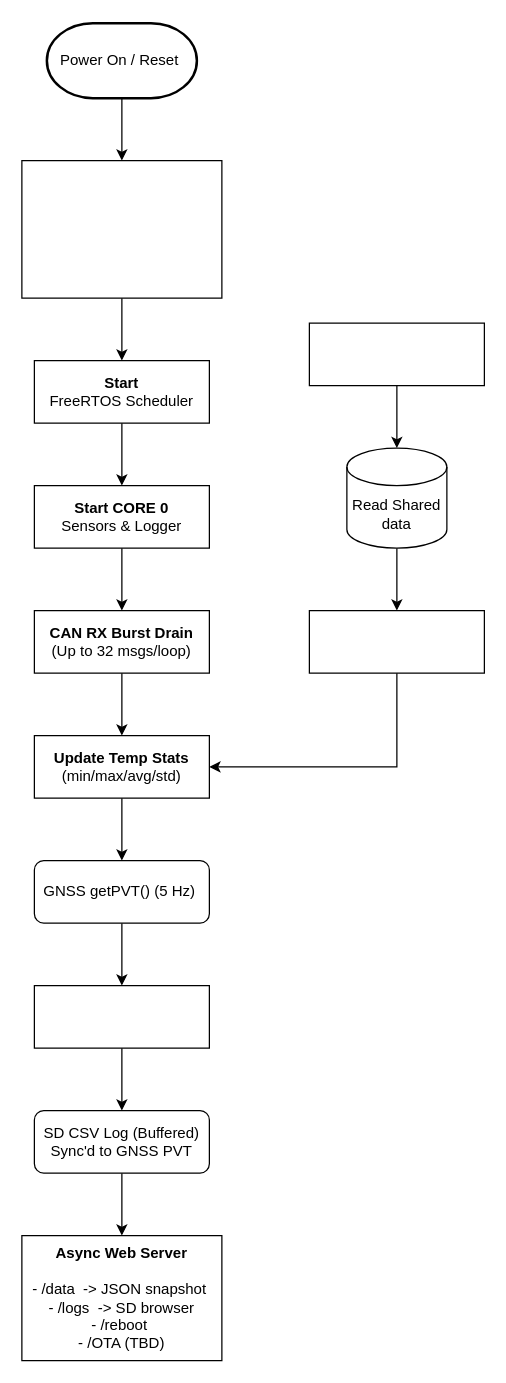
Image size: 506x1383. Some labels were removed from this diagram. The centre of each missing label's shape, as x and y in pixels:
Hardware Init - TFT - SD Card - WiFi - CAN (TWAI) - GNSS (UBX, 5Hz): point 121,228
Start CORE 1 Display Update: point 396,354
Update GNSS Data (lat, lon, speed, etc): point 121,1016
Update TFT - Numeric Temps - Colour Cells: point 396,641
